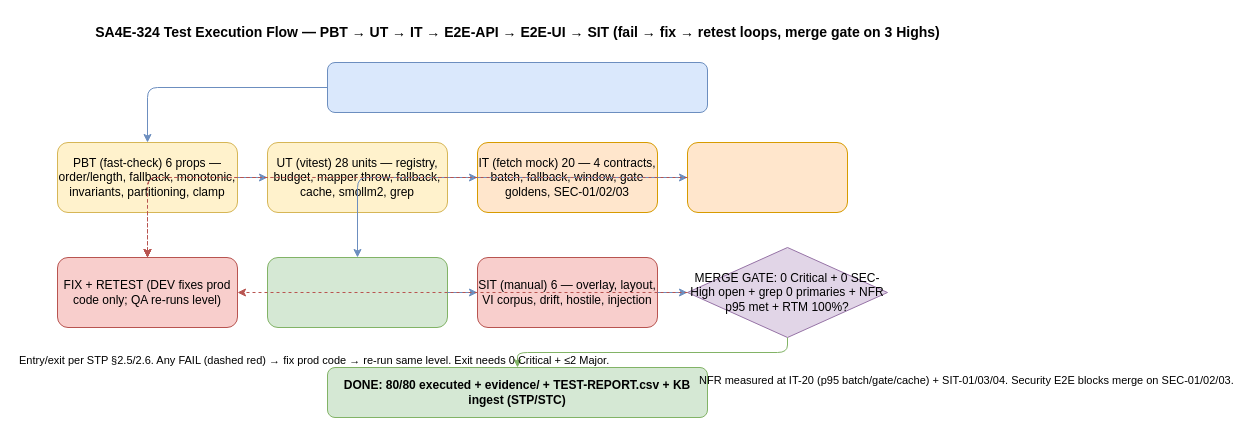
This 1251x435 diagram has some shape labels left out. Each missing label, with the centre of its shape:
E2E-API (real mock server) 12 — gate REJECT/WARN/ALLOW, auth, SEC E2E: the point at 767,177
E2E-UI (Playwright) 8 — % bar, colors, toasts, switch, sanitize: the point at 357,292
START: BRD + FSD v1.2 + TDD v1.1 + SEC-REVIEW + CSV fixtures ready: the point at 517,87
